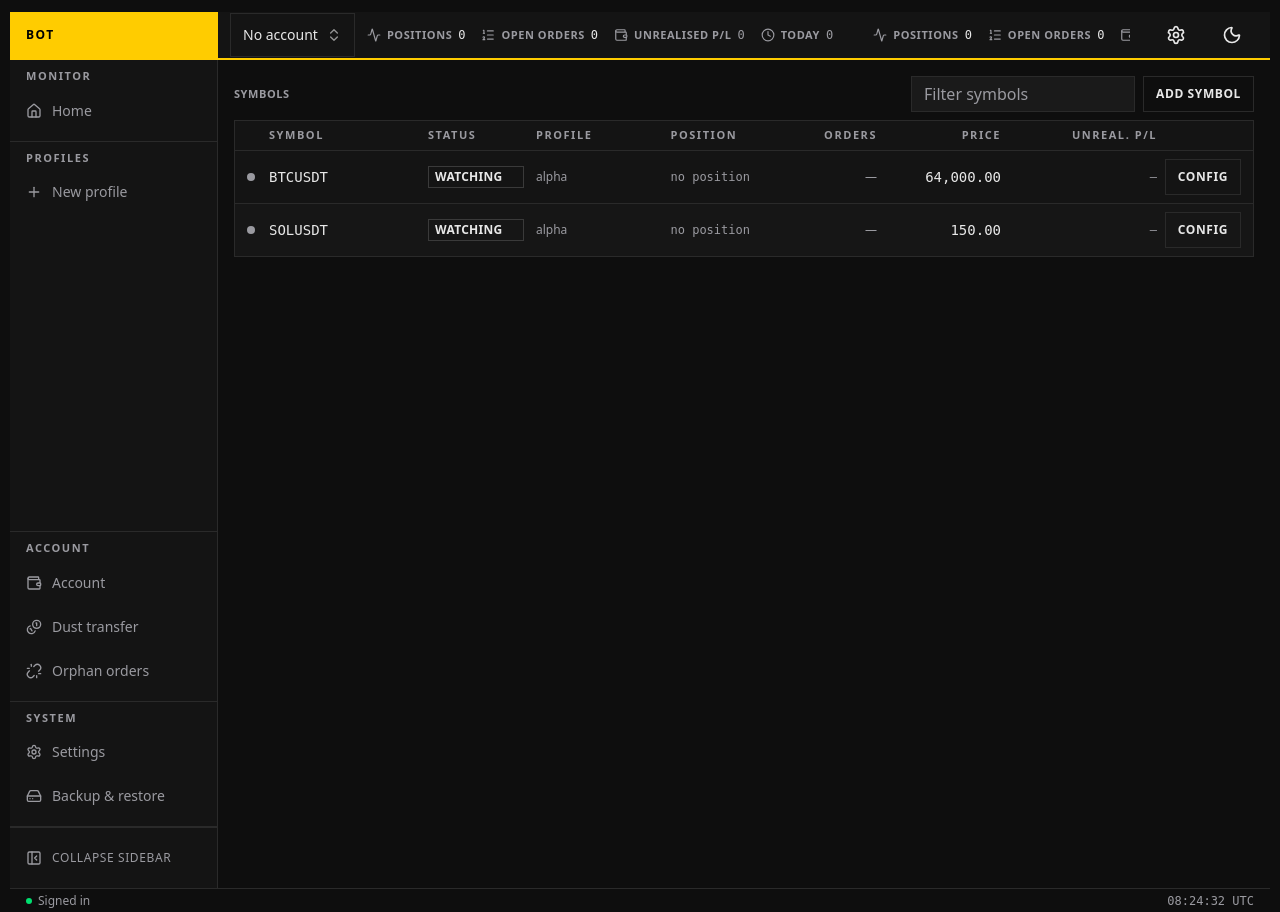
Scenario: <SymbolTable> › filters by symbol substring
Expected: the list item with test id "symbol-row-pa-BTCUSDT" is shown, [235,150,1253,204]
Type "sol" into the search field with test id "symbol-table-filter" at x=1023, y=94, box [911,76,1135,112]
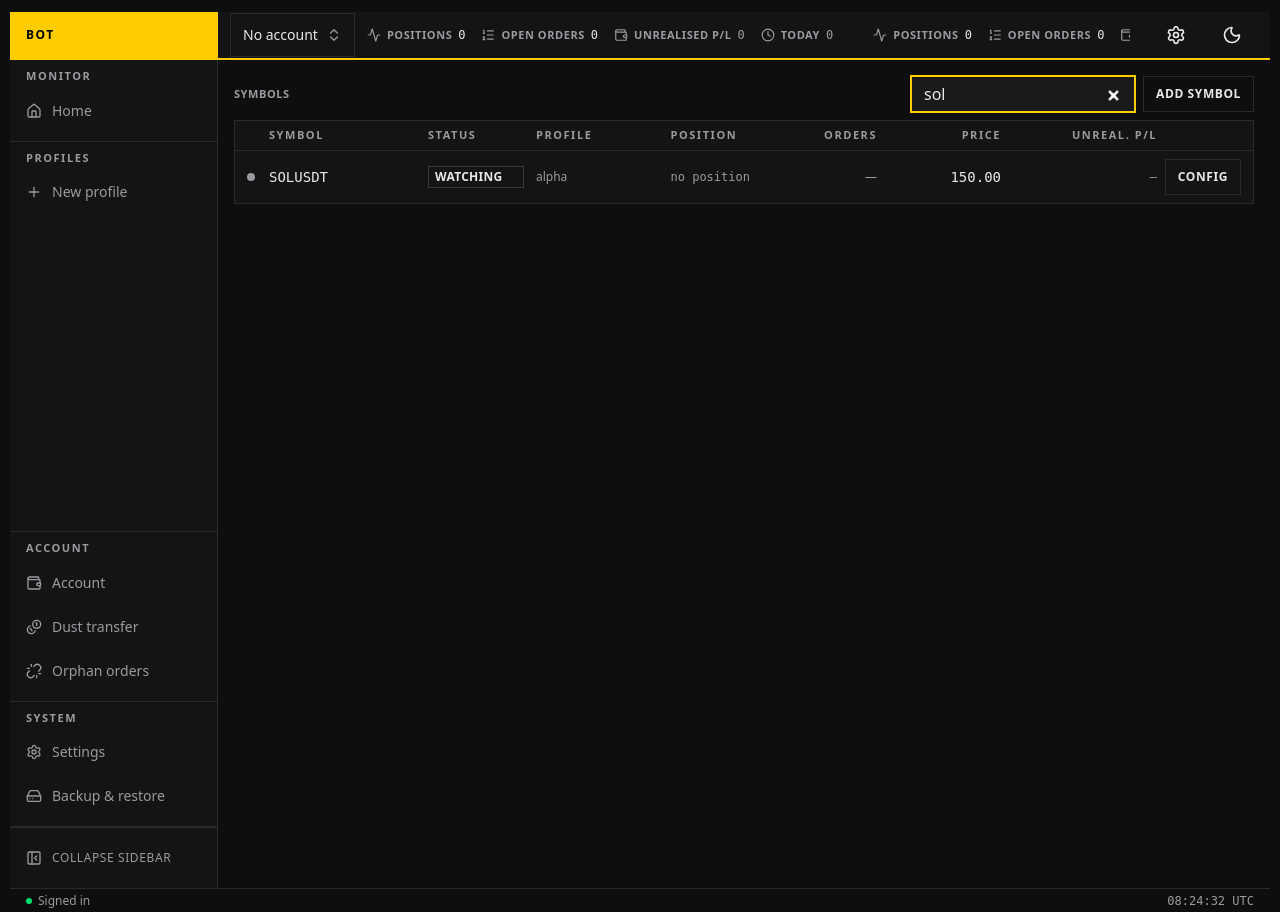
Expected: the list item with test id "symbol-row-pa-SOLUSDT" is shown, [235,150,1253,202]
Expected: the list item with test id "symbol-row-pa-BTCUSDT" is gone
